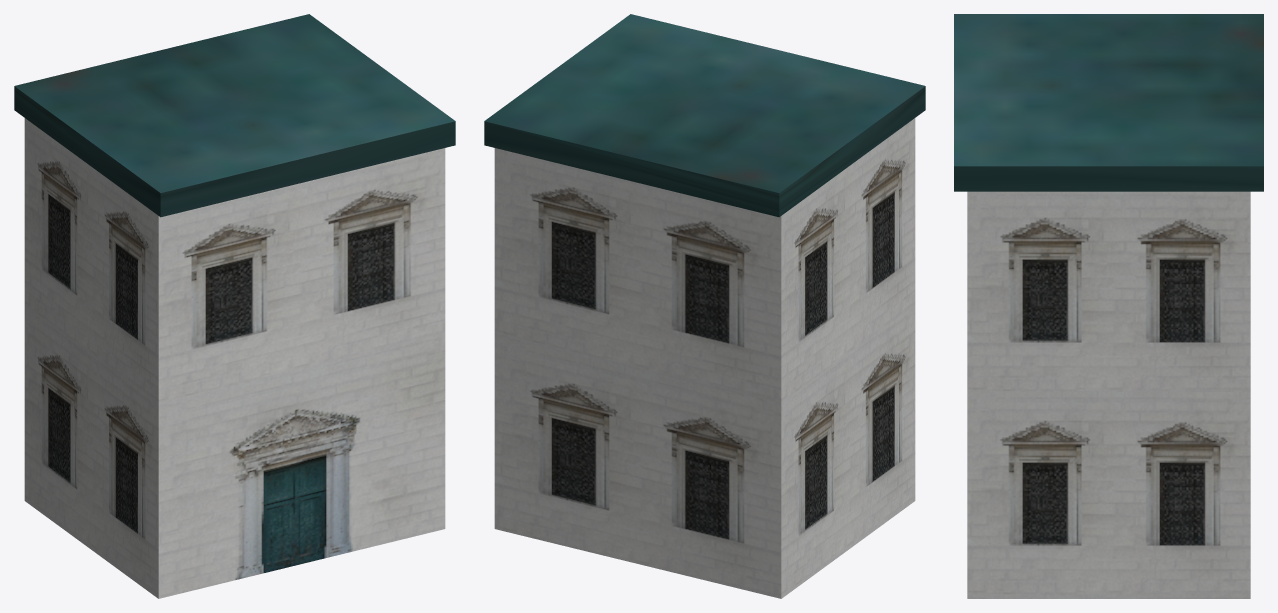
File: building3.fbx
The picture shows the model from 3 angles, left to right: view 1: azimuth 30°, elevation 25°; view 2: azimuth 150°, elevation 25°; view 3: azimuth 270°, elevation 25°; orthographic projection. The views are drawn at different scales.
Parts seen in each view (by area): view 1: richFlat; view 2: richFlat; view 3: richFlat.
Boxes of the visible parts, x1,y1,x2,y2 form: richFlat: [14, 14, 455, 598]; richFlat: [484, 14, 925, 598]; richFlat: [954, 14, 1263, 598].
Bounding box in the file's own units: 1767 × 2353 × 1519.
